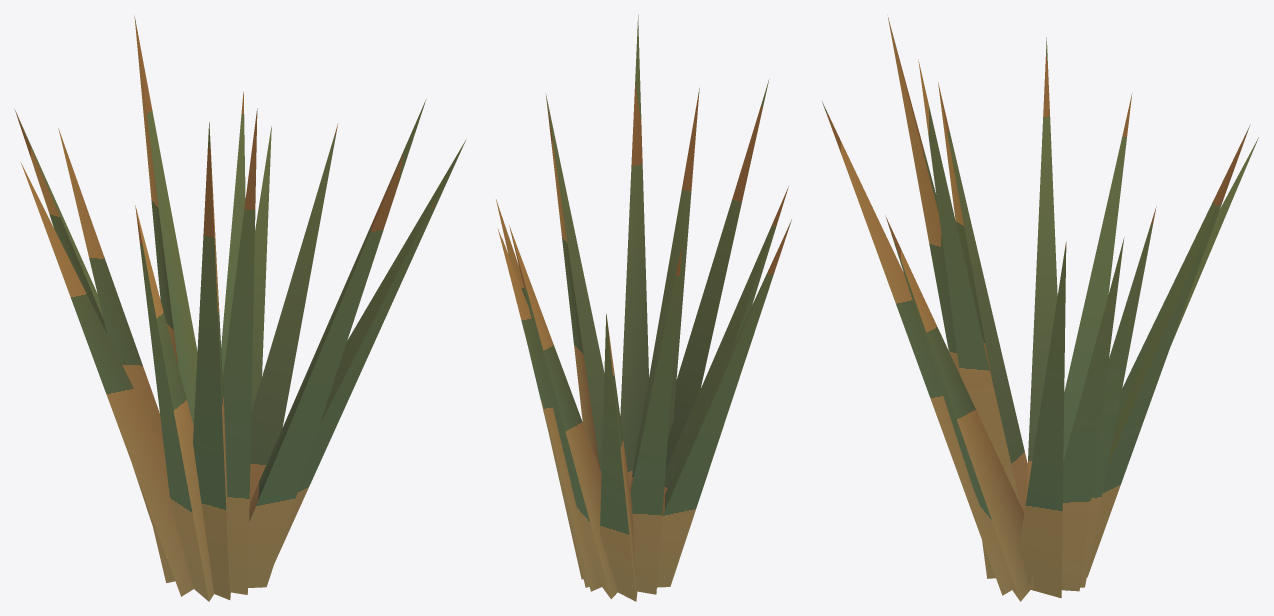
File: wland.grass.glb
3 views of the same model, side by side, from view 1: azimuth 30°, elevation 25°; view 2: azimuth 150°, elevation 25°; view 3: azimuth 270°, elevation 25° (orthographic). The views are drawn at different scales.
Visible parts, largest first — view 1: kit_blades; view 2: kit_blades; view 3: kit_blades.
Part boxes in pixels (x1,y1,x2,y2): kit_blades: [14, 16, 466, 601]; kit_blades: [496, 15, 791, 601]; kit_blades: [822, 17, 1258, 601].
Size of the model in its own units: 0.3458 by 0.4936 by 0.3696.
1 material, 1 textured.
